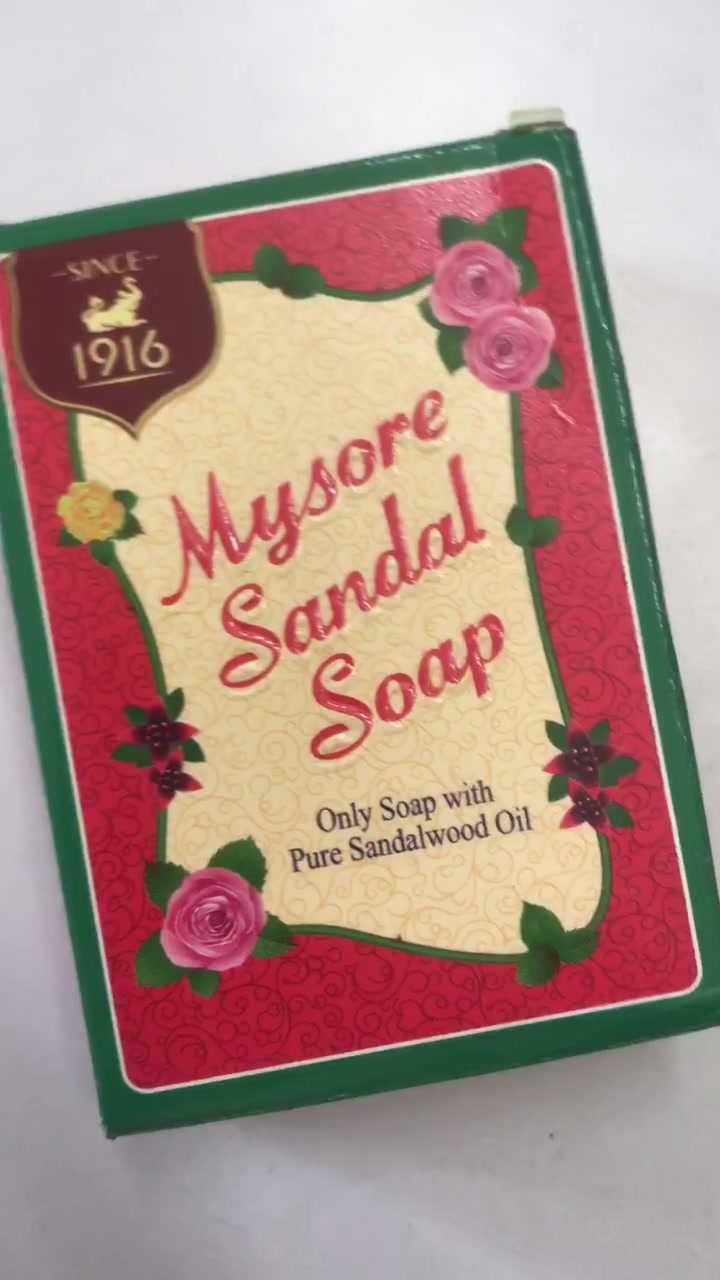mysore sandal soap: (13, 213, 702, 1141)
